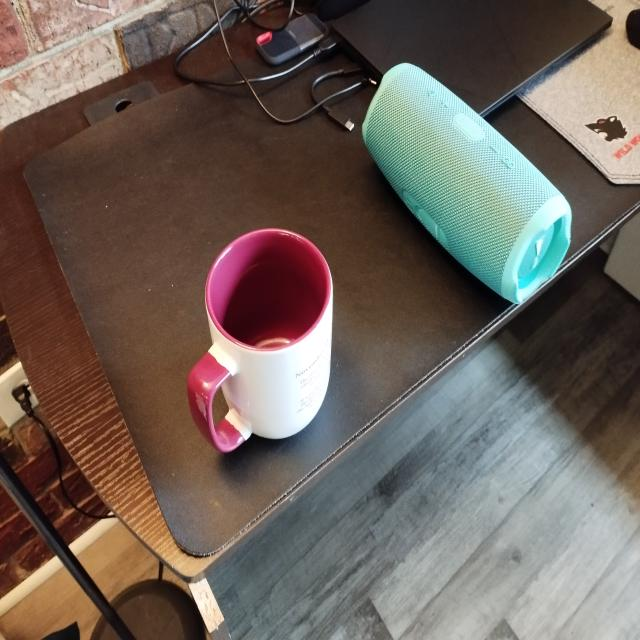Cup: (181, 226, 360, 482)
